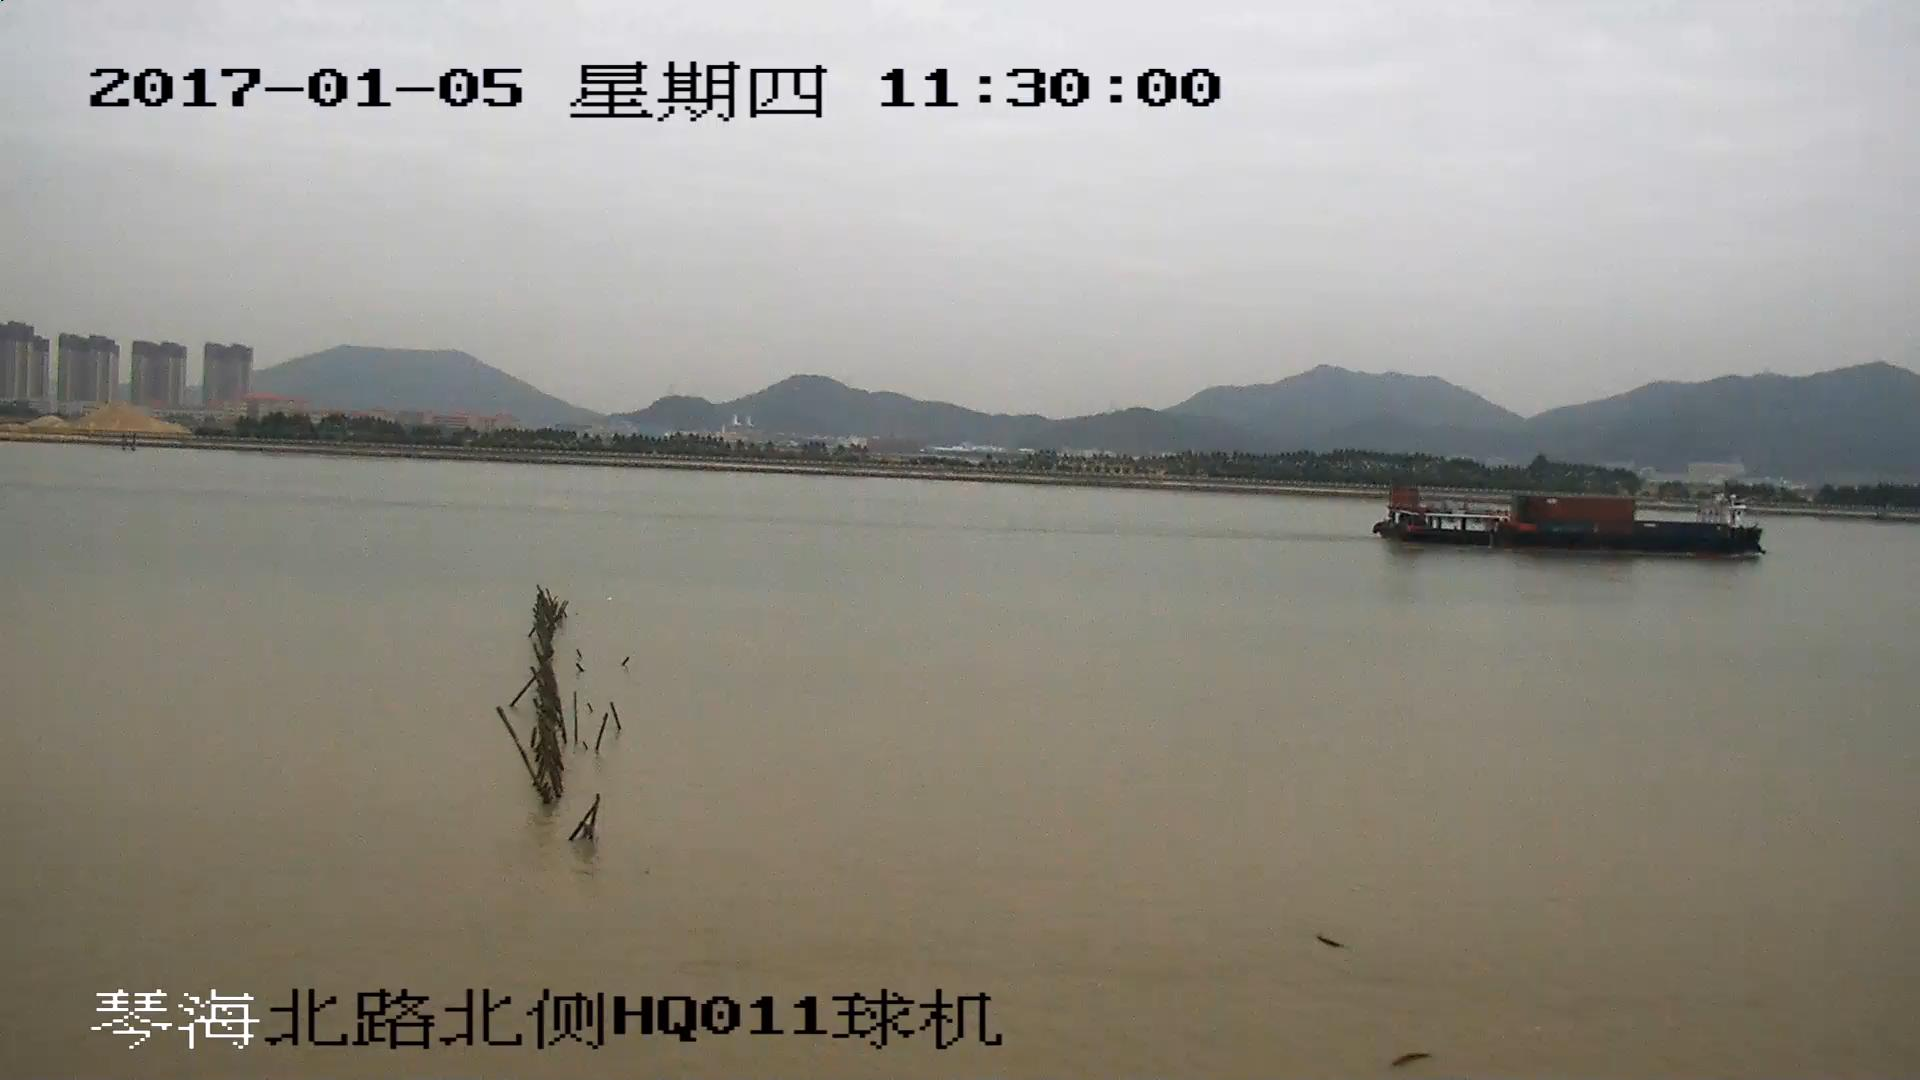container ship: (1377, 484, 1762, 558)
